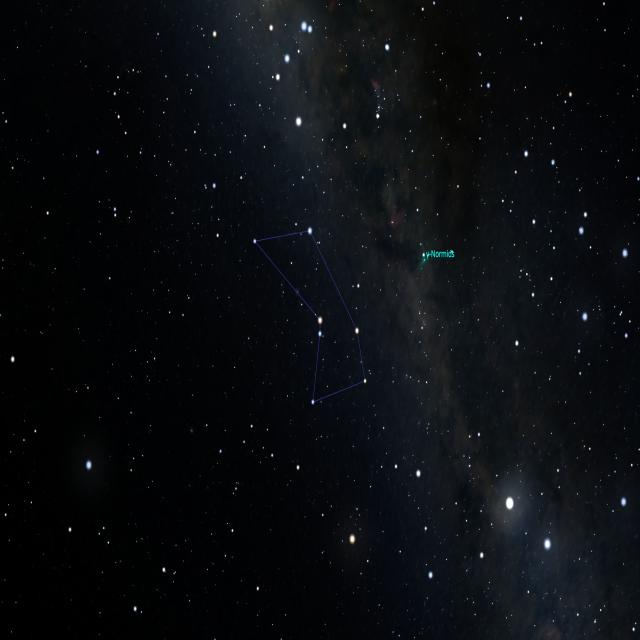Ara: (247, 222, 374, 416)
